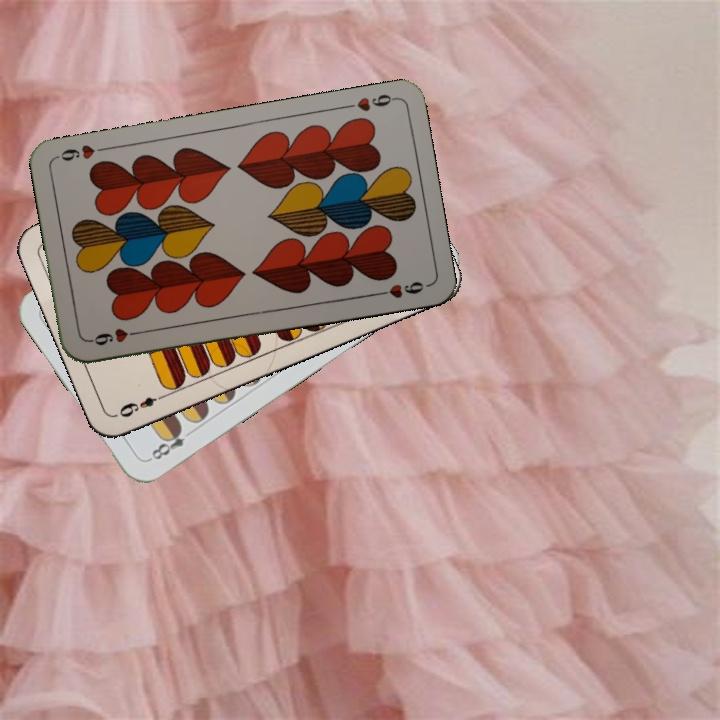E8: (144, 422, 188, 464)
E9: (115, 390, 169, 420)
H9: (85, 324, 144, 349), (339, 90, 398, 114)
